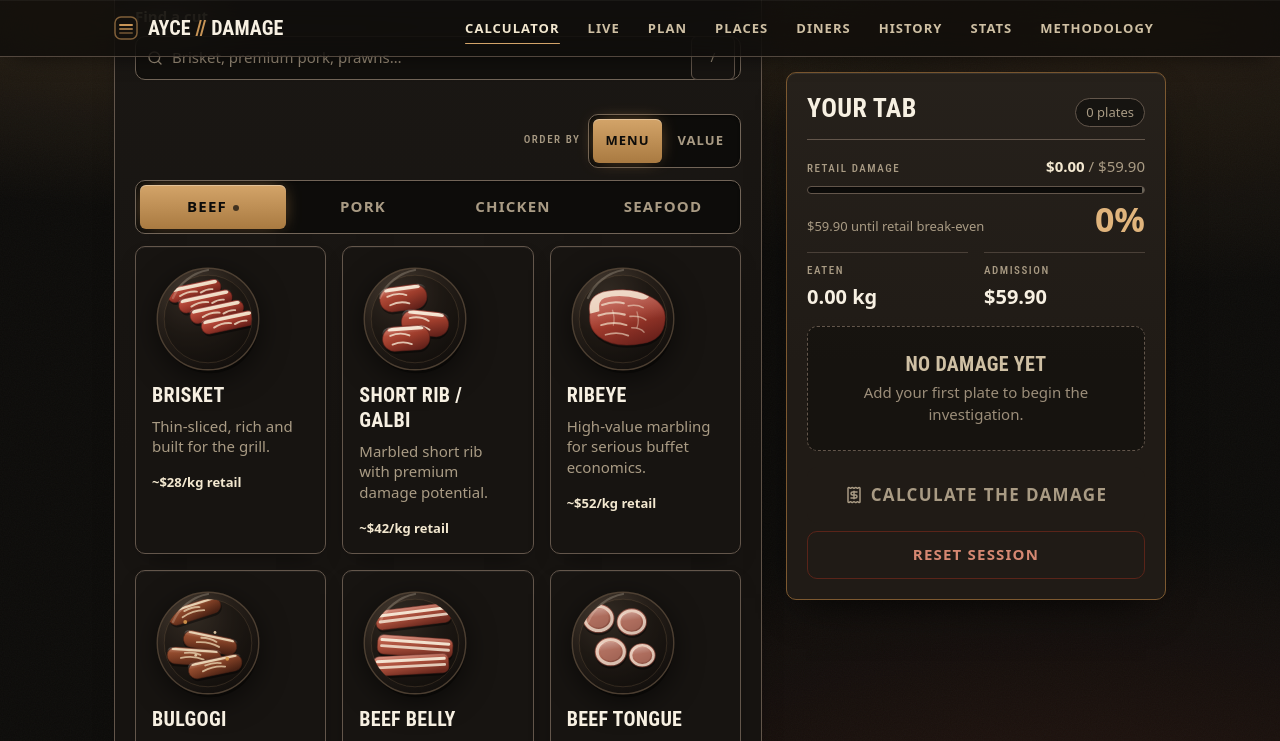
Test: concurrent active-session edits › keeps the existing tab readable while a conflict is presented
(page scrolled)
What coordinates should you click on to do the following:
click the button "Ribeye"
I would click on:
 (645, 400)
Its box is [550,246,741,554].
(page scrolled)
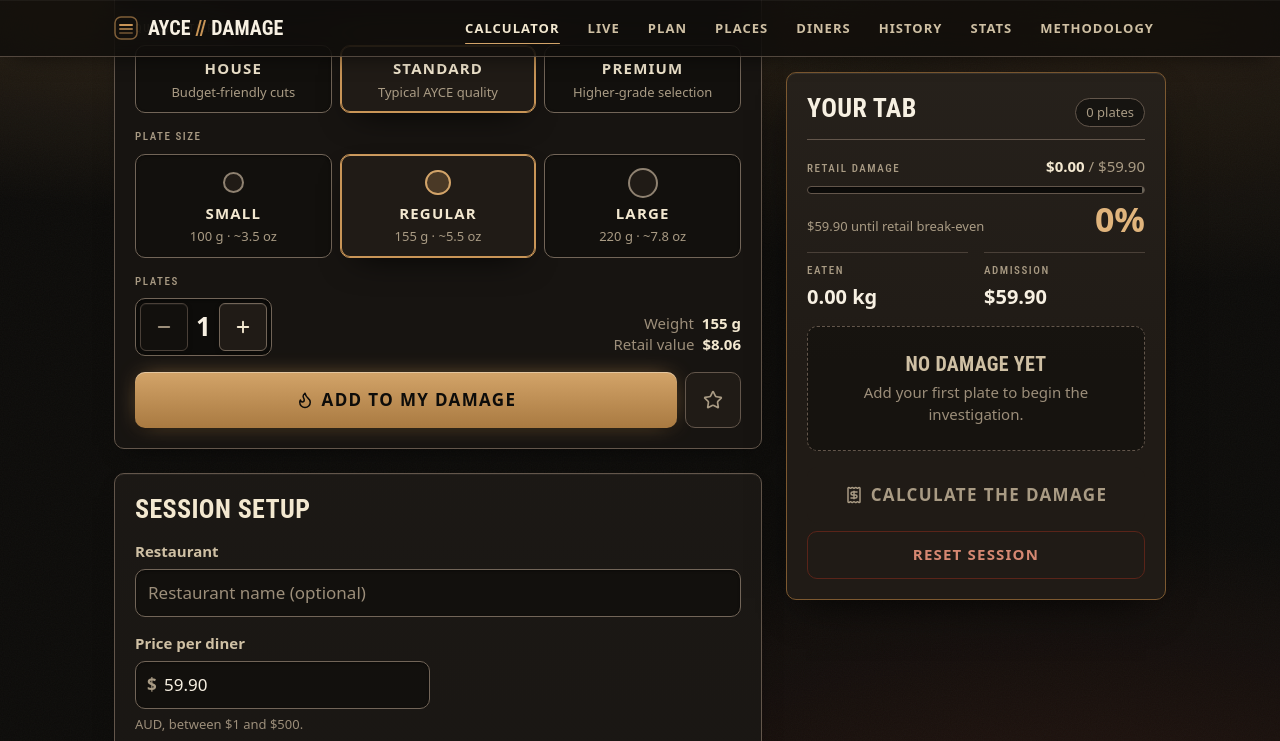
What coordinates should you click on to do the following:
click the button "Add to my damage"
I would click on:
 (406, 400)
Its box is [135,372,677,428].
(page scrolled)
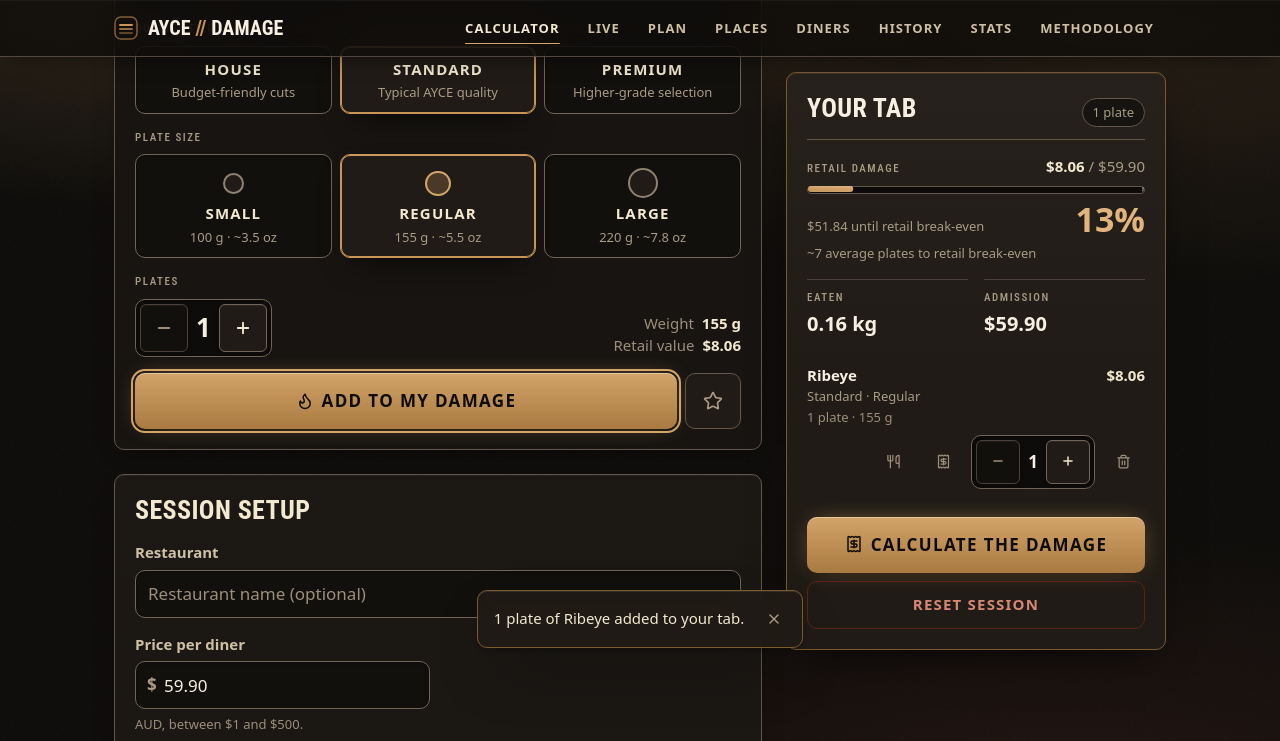
Expected: the text "Ribeye" is shown, [807,365,857,385]
